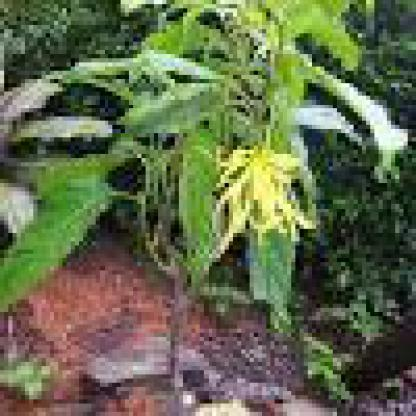Kenanga: (201, 130, 321, 255)
